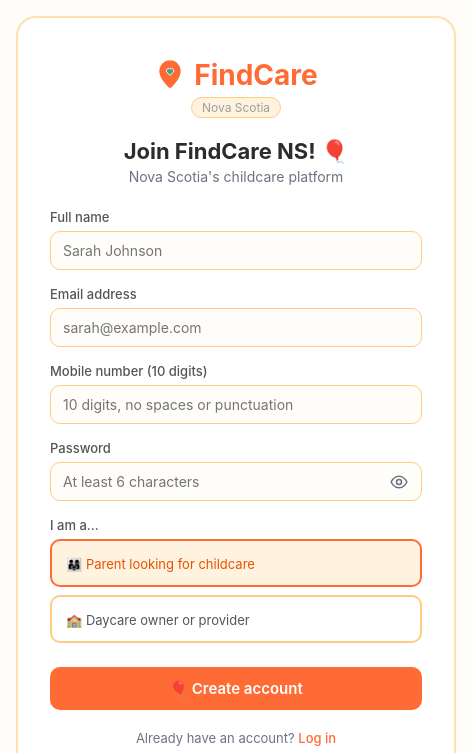
Test case: offers a verification resend after an unverified duplicate registration
In the field with placeholder "sarah@example.com": (236, 328) x1=50 y1=308 x2=422 y2=347, type "parent@example.com"
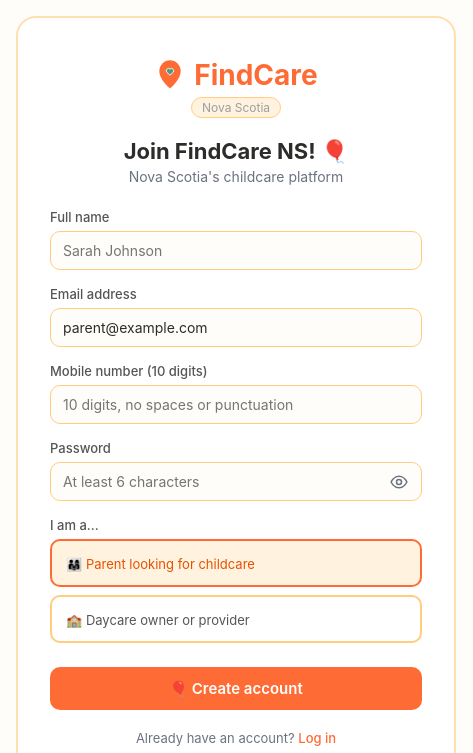
Submit the form named "create account", box x1=50 y1=209 x2=422 y2=710
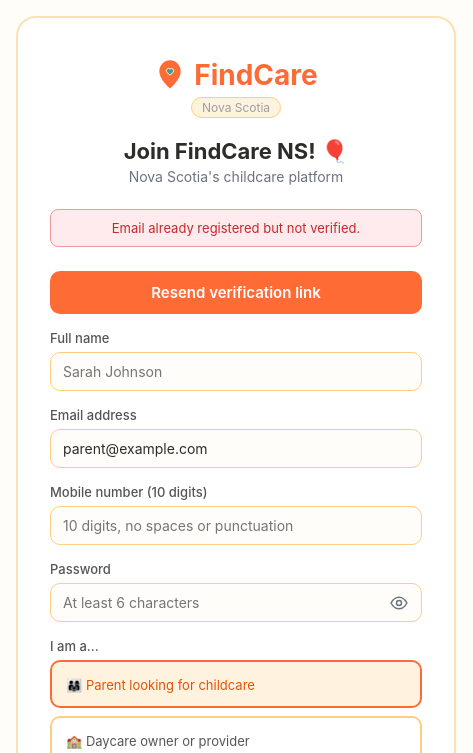
Click the button "Resend verification link": click(236, 292) x1=50 y1=271 x2=422 y2=314
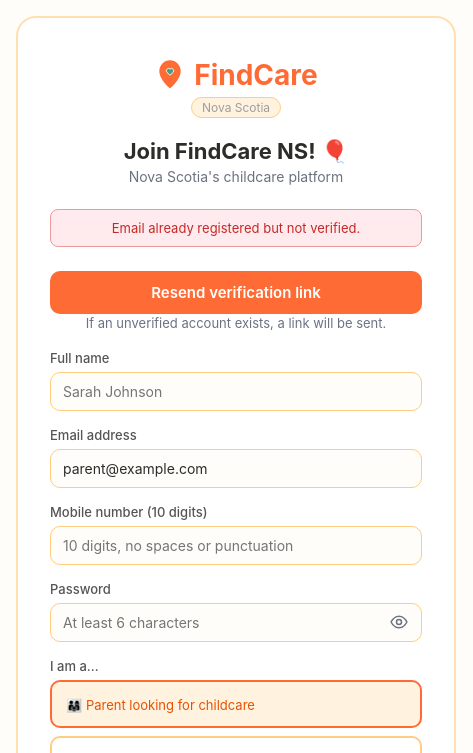
Result: the message "If an unverified account exists, a link will be sent." is shown at x1=86 y1=315 x2=386 y2=331
